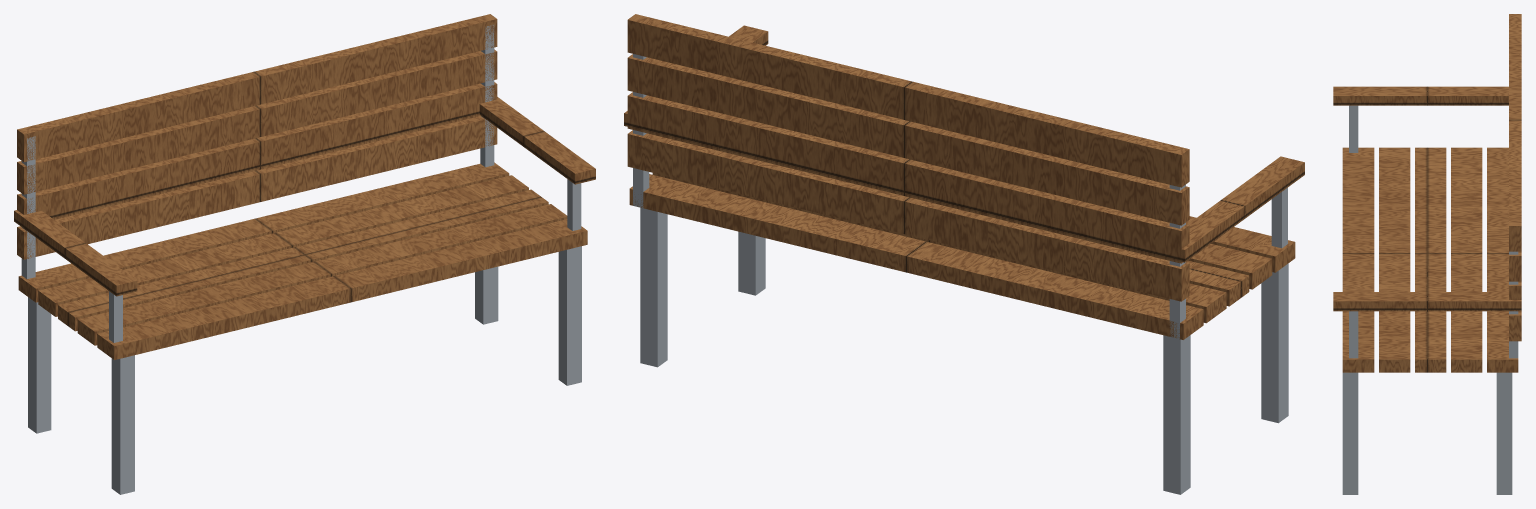
The model's file is Kerti_pad.obj.
3 views of the same model, side by side, from view 1: azimuth 30°, elevation 25°; view 2: azimuth 150°, elevation 25°; view 3: azimuth 270°, elevation 25° (orthographic). The views are drawn at different scales.
Bounding box in the file's own units: 1.62 × 0.955 × 0.6.
Materials: 2 (1 with a texture image).
